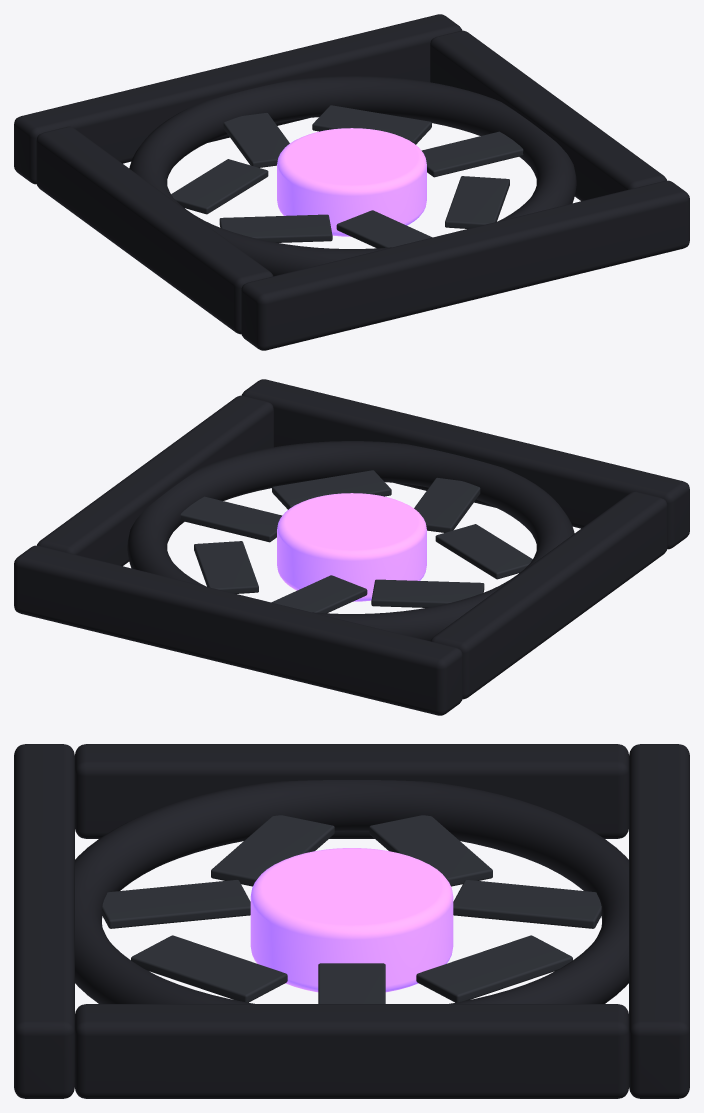
3 renders of one model, top to bottom at view 1: azimuth 30°, elevation 25°; view 2: azimuth 150°, elevation 25°; view 3: azimuth 270°, elevation 25°, orthographic. The views are drawn at different scales.
Visible parts, largest first — view 1: part_068; view 2: part_068; view 3: part_068.
Part boxes in pixels (box(x1,y1,x2,y2)): part_068: box(14, 14, 689, 350); part_068: box(14, 379, 689, 715); part_068: box(14, 744, 689, 1098).
Size of the model in its own units: 1.2 by 0.15 by 1.2.
